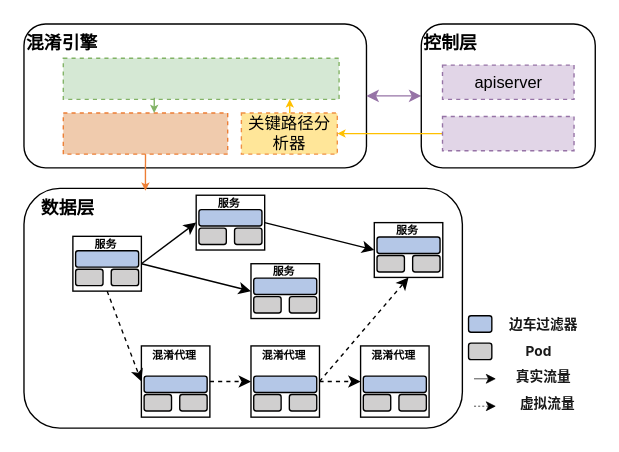
Some shapes in this 619 by 452 pixel diagram are drawn without their labels. Here are the shapes that lost their labels. From the top down, the centre of each, then its label:
point (200, 78): 混淆策略生成器
point (145, 133): 混淆代理生成器
point (507, 133): kiali
